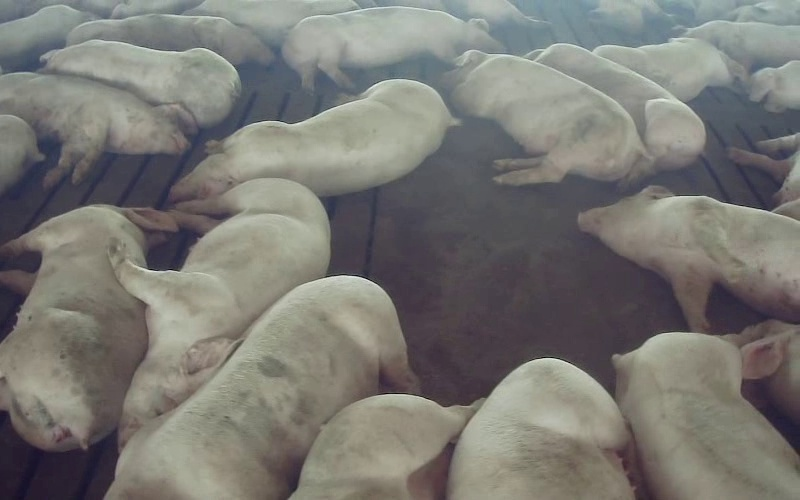pig: (107, 276, 416, 499), (110, 179, 329, 445), (0, 206, 177, 450), (170, 80, 457, 201), (578, 186, 799, 331), (613, 333, 799, 499), (448, 358, 633, 499), (290, 394, 481, 499), (282, 6, 503, 90), (42, 40, 240, 127), (593, 38, 745, 101), (684, 20, 799, 71)
